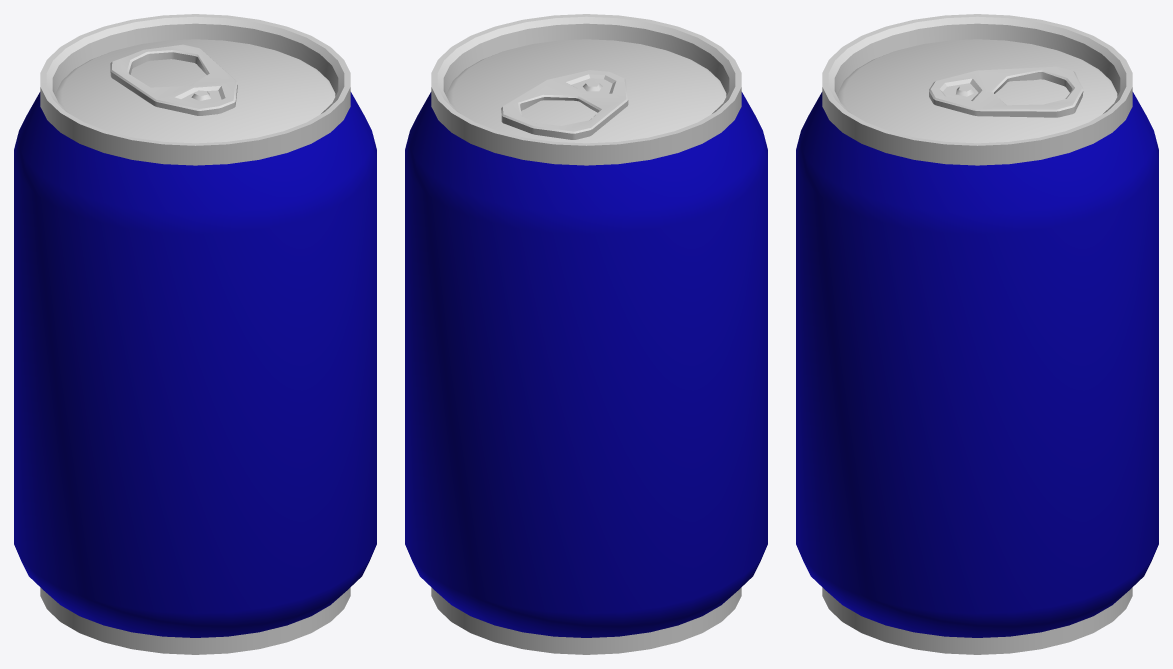
The model's file is sodacan.fbx.
3 renders of one model, left to right at view 1: azimuth 30°, elevation 25°; view 2: azimuth 150°, elevation 25°; view 3: azimuth 270°, elevation 25°, orthographic.
Parts seen in each view (by area): view 1: Cylinder019; view 2: Cylinder019; view 3: Cylinder019.
Part boxes in pixels (x1,y1,x2,y2): Cylinder019: (14, 14, 376, 654); Cylinder019: (405, 14, 767, 654); Cylinder019: (796, 14, 1158, 654).
Size of the model in its own units: 1.97 by 3.04 by 1.96.
